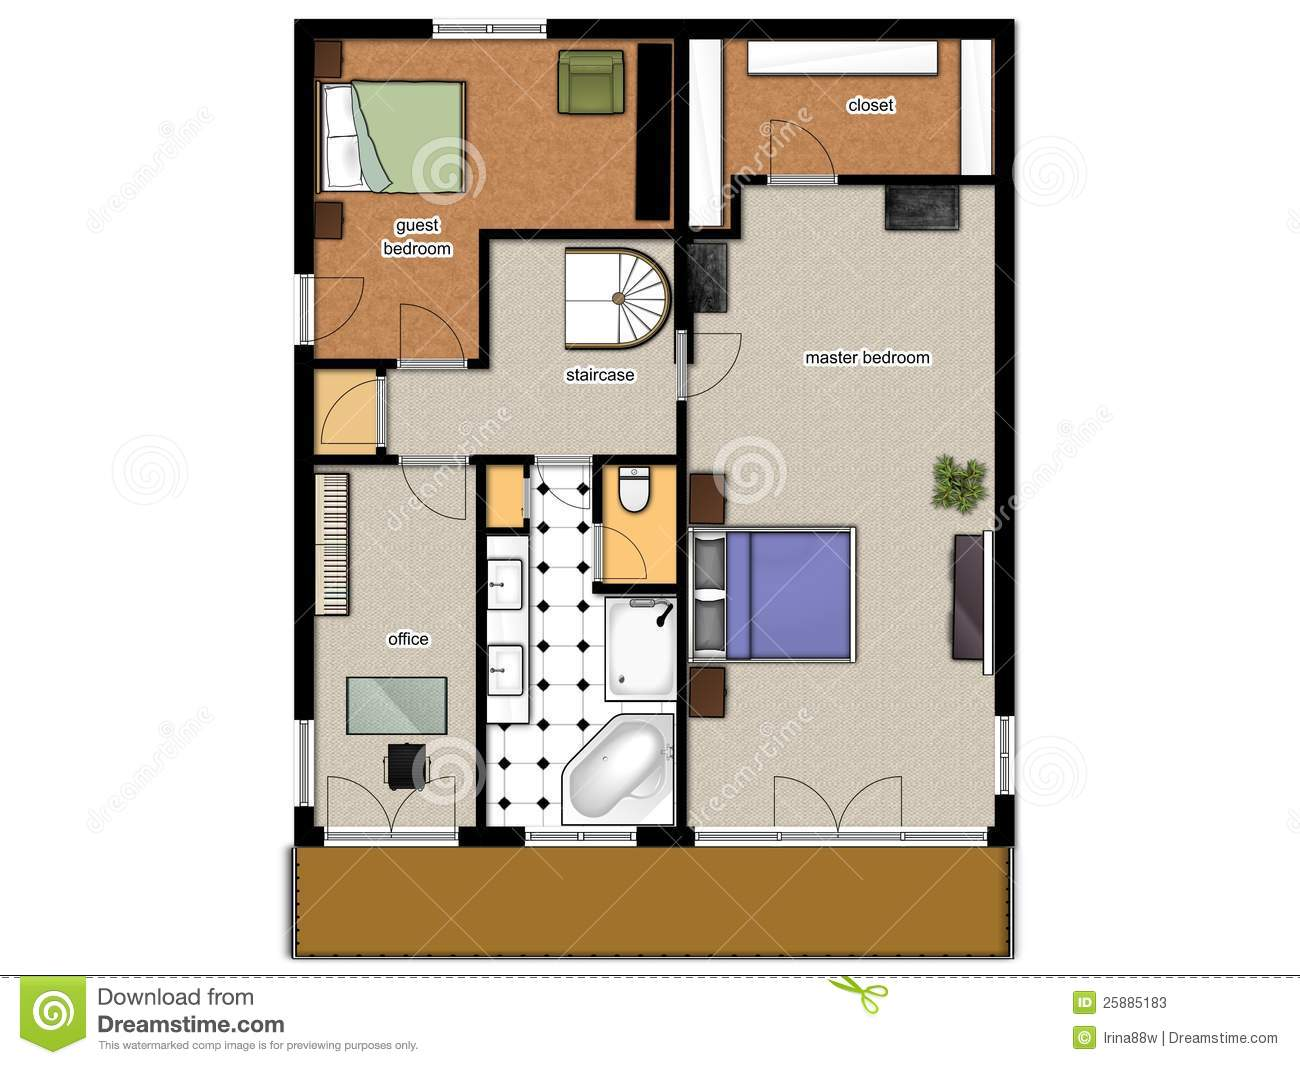door: (767, 749, 908, 822), (322, 772, 461, 825), (392, 284, 468, 358), (762, 108, 840, 171), (400, 469, 471, 532), (314, 272, 369, 348), (317, 376, 373, 451), (692, 328, 747, 404), (602, 516, 656, 585)
